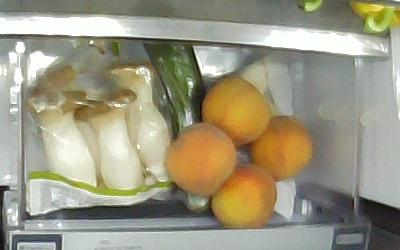peach: (165, 122, 237, 197), (202, 77, 270, 147), (249, 115, 313, 181), (211, 164, 278, 227)
